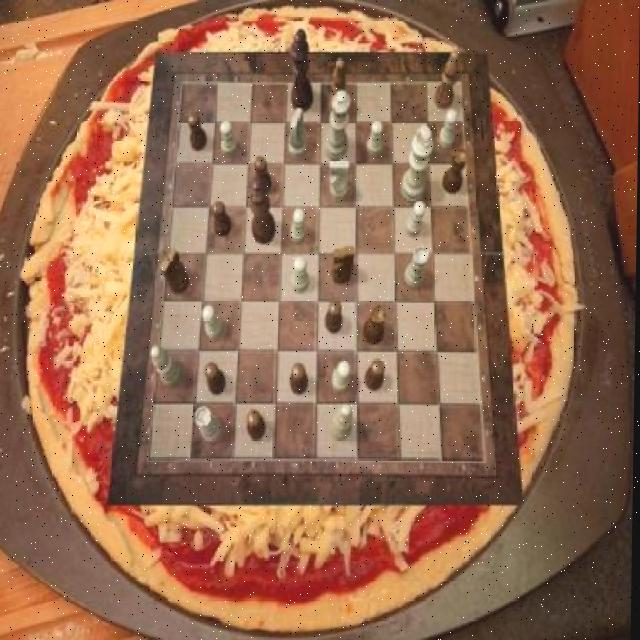bishop: (434, 51, 459, 111), (329, 58, 347, 117)
black-bishop: (290, 29, 314, 113)
black-king: (160, 248, 189, 294), (331, 246, 354, 284)
black-knight: (187, 112, 208, 151), (211, 202, 232, 238), (205, 362, 227, 396), (254, 155, 272, 193), (364, 360, 385, 392), (325, 300, 343, 334), (248, 409, 267, 440), (290, 363, 308, 395)
black-pawn: (248, 177, 276, 243)
black-queen: (441, 148, 467, 194), (362, 304, 385, 344)
black-rook: (149, 346, 182, 388), (331, 403, 354, 441)
white-bishop: (400, 125, 434, 202)
white-king: (287, 108, 308, 158), (330, 158, 351, 201)
white-knight: (201, 304, 224, 340), (438, 111, 457, 151), (405, 202, 425, 238), (220, 121, 238, 158), (291, 257, 309, 293), (366, 121, 383, 158), (332, 360, 351, 392), (290, 209, 307, 244)
white-pawn: (324, 91, 351, 160)
white-queen: (404, 245, 429, 287), (195, 406, 223, 442)
